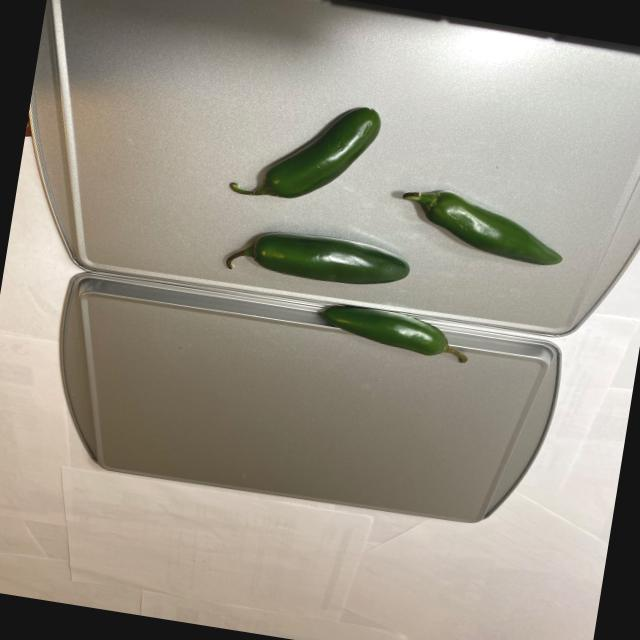chilli: (194, 84, 582, 378)
